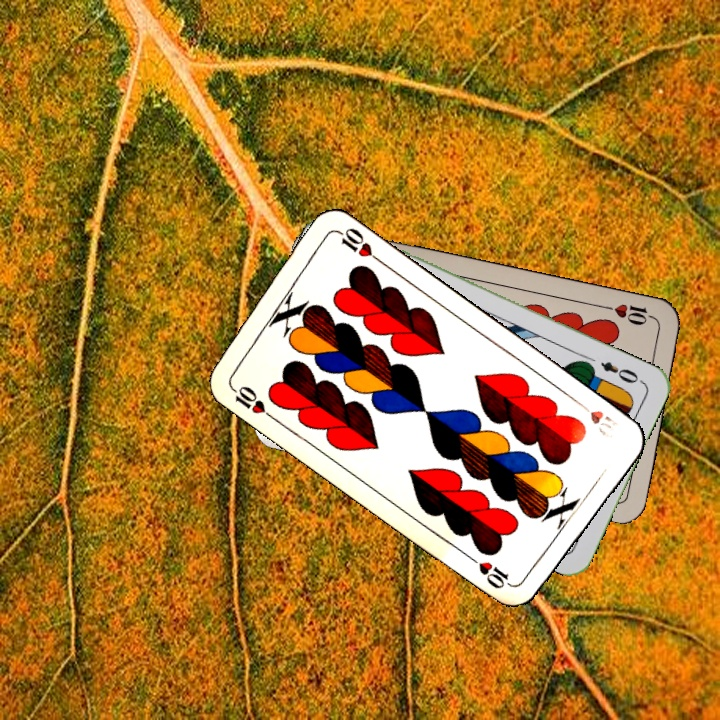EO: (596, 357, 646, 387)
H10: (572, 396, 622, 439), (226, 381, 276, 422), (600, 299, 659, 328)
